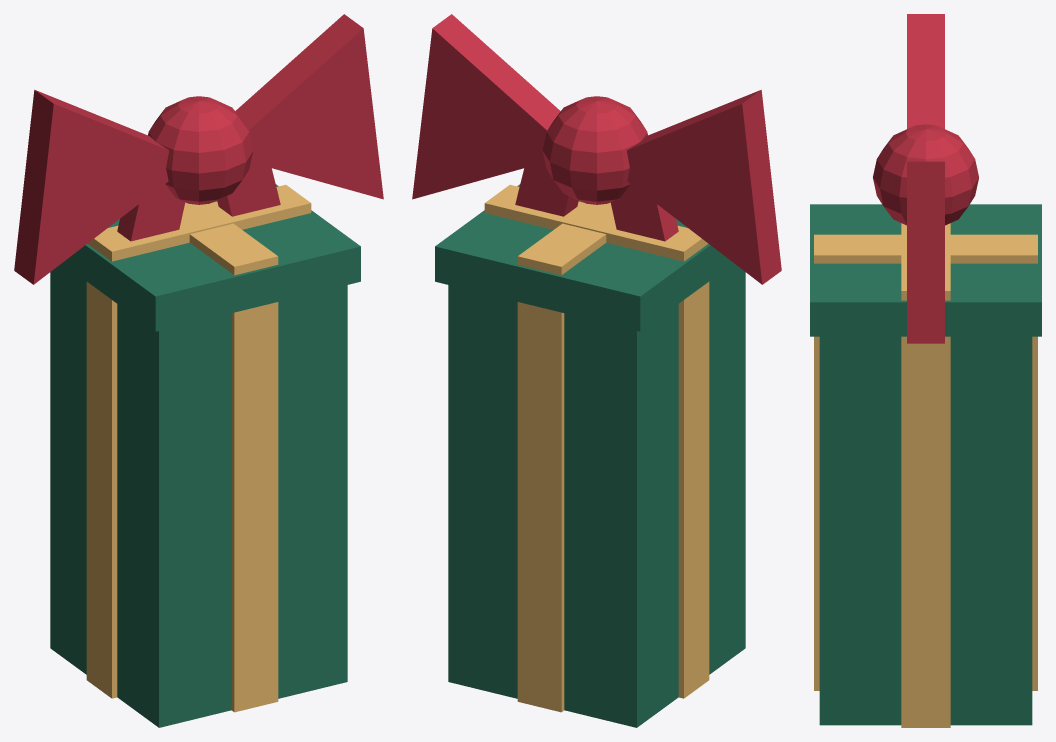
The model's file is three-d-christmas-village-christmas-village-tall-gift-df31aba5.glb.
3 views of the same model, side by side, from view 1: azimuth 30°, elevation 25°; view 2: azimuth 150°, elevation 25°; view 3: azimuth 270°, elevation 25° (orthographic). The views are drawn at different scales.
Visible parts, largest first — view 1: tall-gift; view 2: tall-gift; view 3: tall-gift.
Part boxes in pixels (<box>): tall-gift: <box>14,14,383,727</box>; tall-gift: <box>412,14,781,727</box>; tall-gift: <box>810,14,1041,727</box>.
Bounding box in the file's own units: 0.52 × 0.86 × 0.305.
